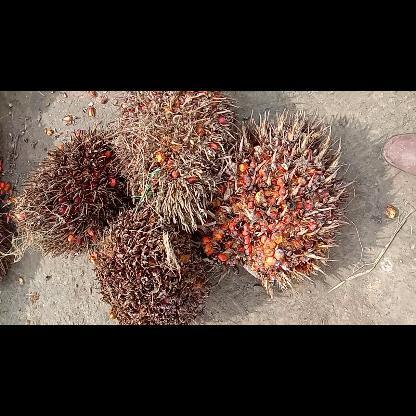Terlalu masak: (202, 107, 353, 298), (102, 90, 240, 233), (0, 121, 127, 263), (93, 206, 209, 324)
